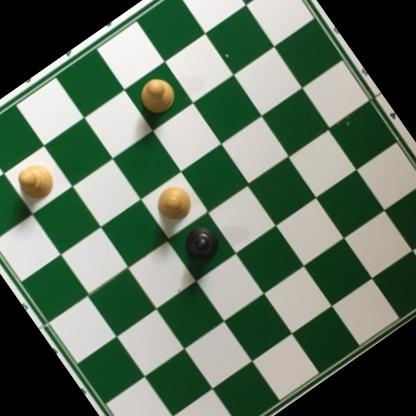black-pawn: (175, 219, 227, 271)
white-pawn: (132, 70, 183, 122), (10, 157, 59, 207), (148, 180, 198, 229)
